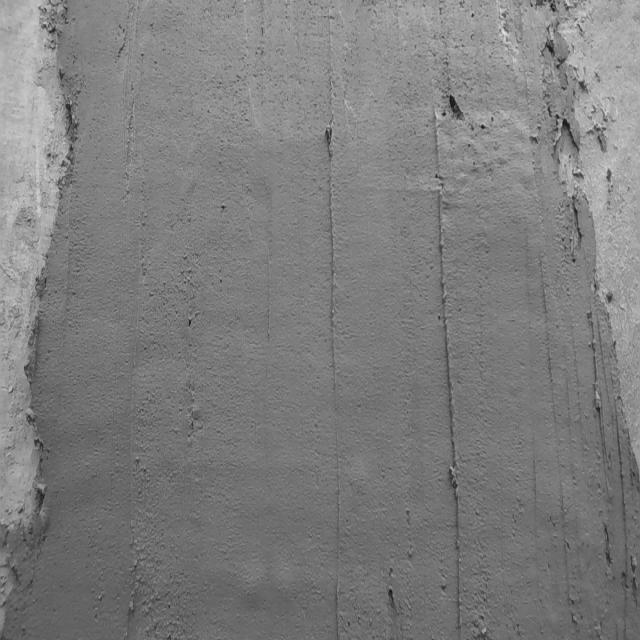trowels marks: (437, 151, 469, 634), (326, 21, 344, 638), (540, 258, 556, 398)
